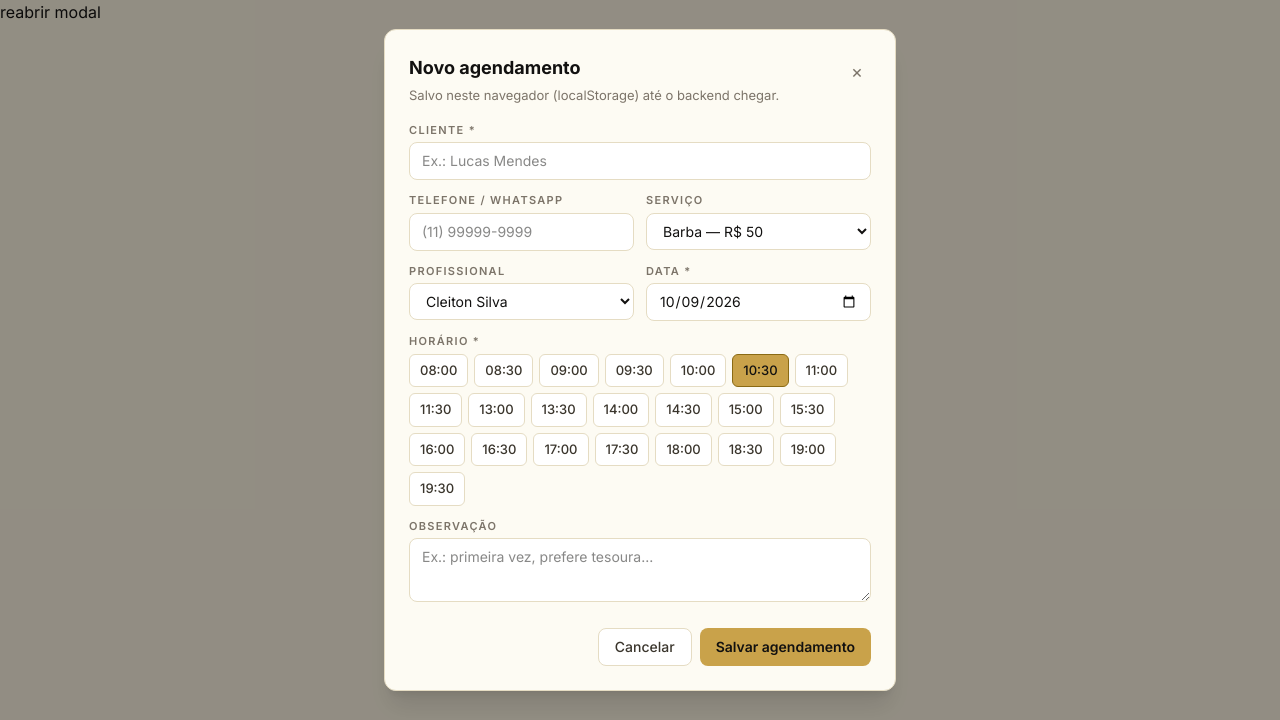
Scenario: NovoAgendamentoModal — confirmação automática de WhatsApp › cliente cadastrado com telefone: cria e envia exatamente 1 confirmação
Type "Ana Souza" into the field labelled "Cliente *" at (640, 161), box [409,142,871,180]
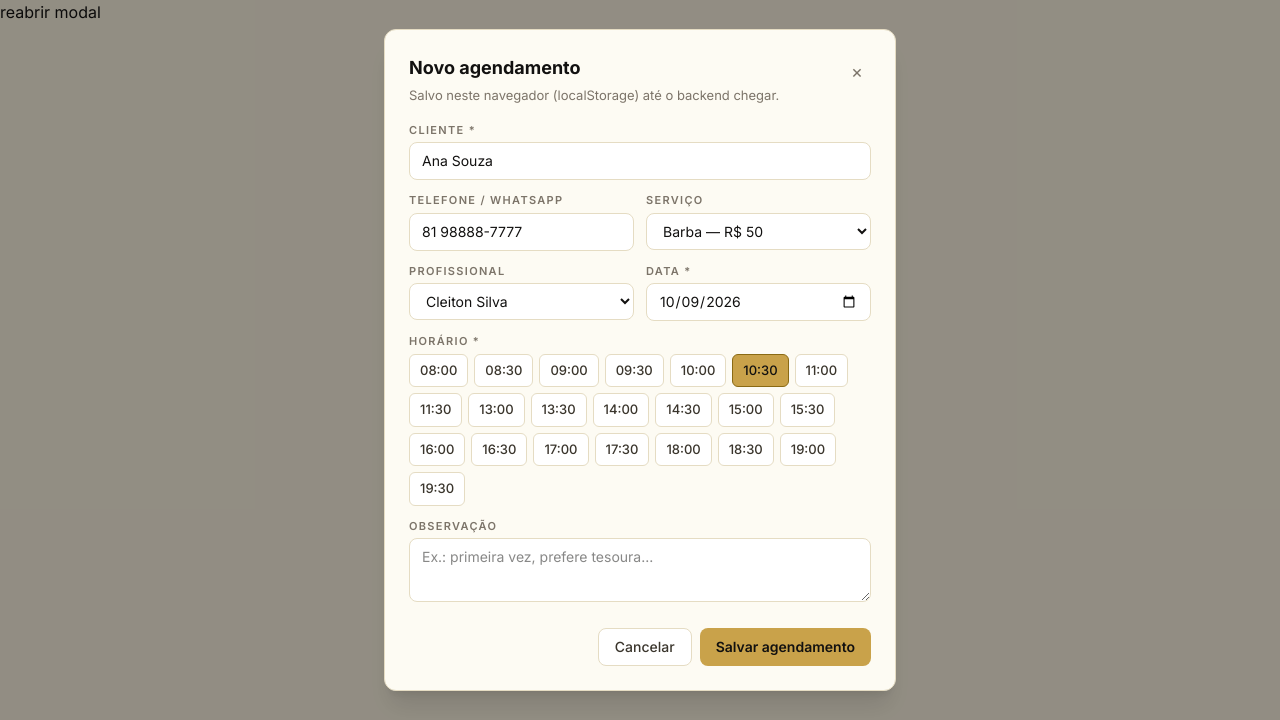
Click the button "Salvar agendamento" at (785, 647), box [700,628,871,666]
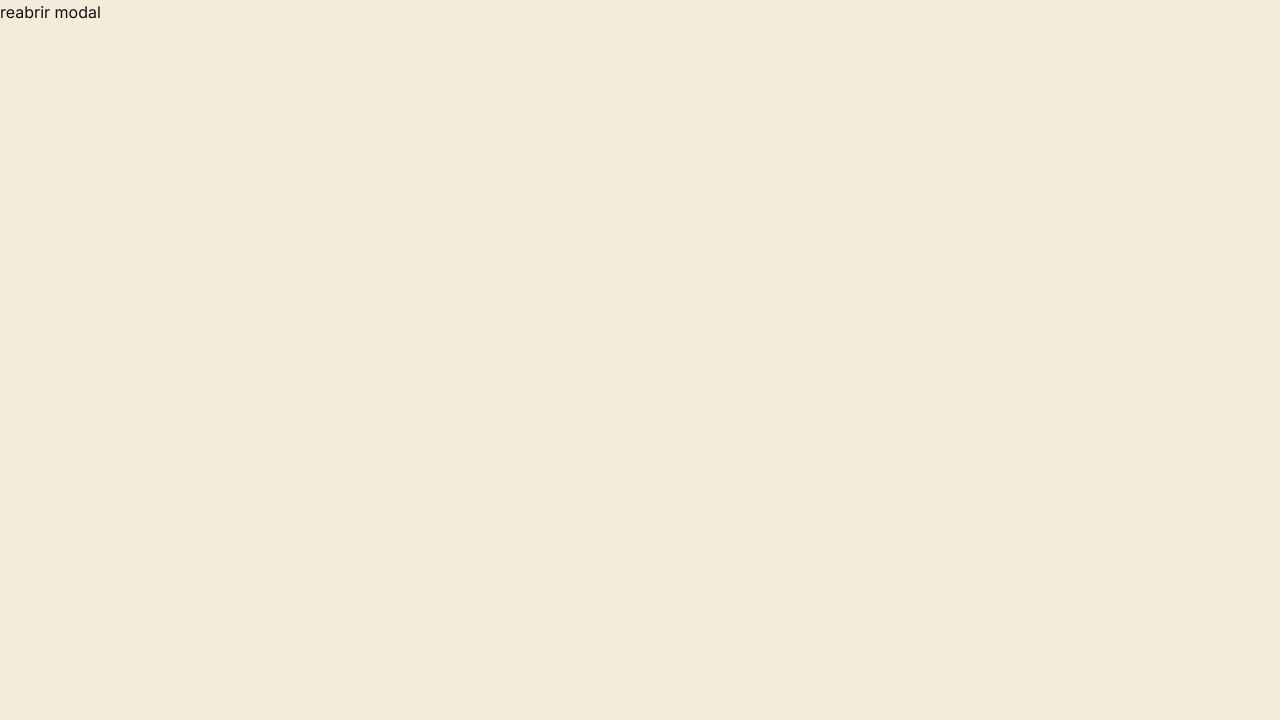
Now the label labelled "Cliente *" is gone
